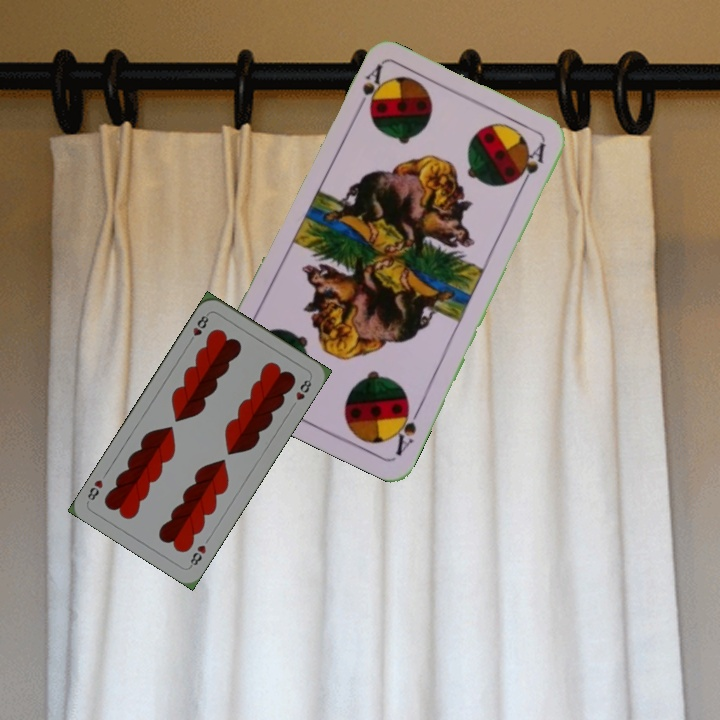H8: (185, 310, 211, 346), (185, 541, 209, 570)
SA: (388, 399, 424, 459), (351, 61, 384, 117)
